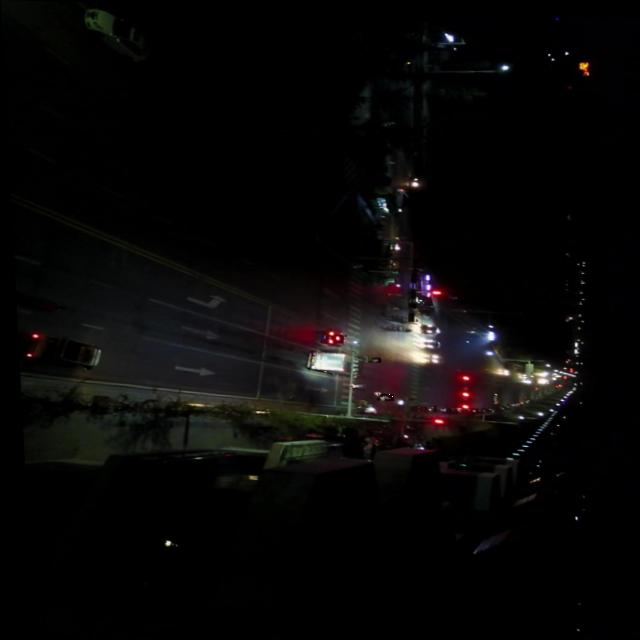Person: (372, 391, 389, 399), (344, 382, 361, 386), (363, 355, 376, 360)
